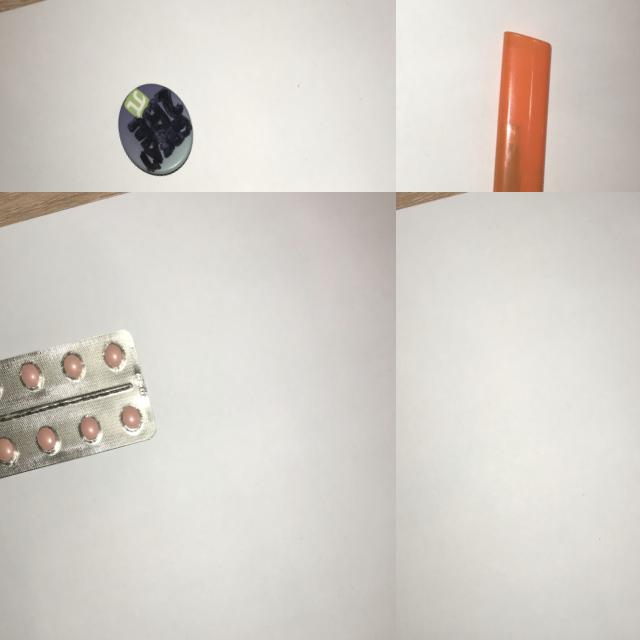icon: (100, 63, 213, 192)
lighter: (437, 14, 609, 192)
tablets: (0, 313, 167, 504)
